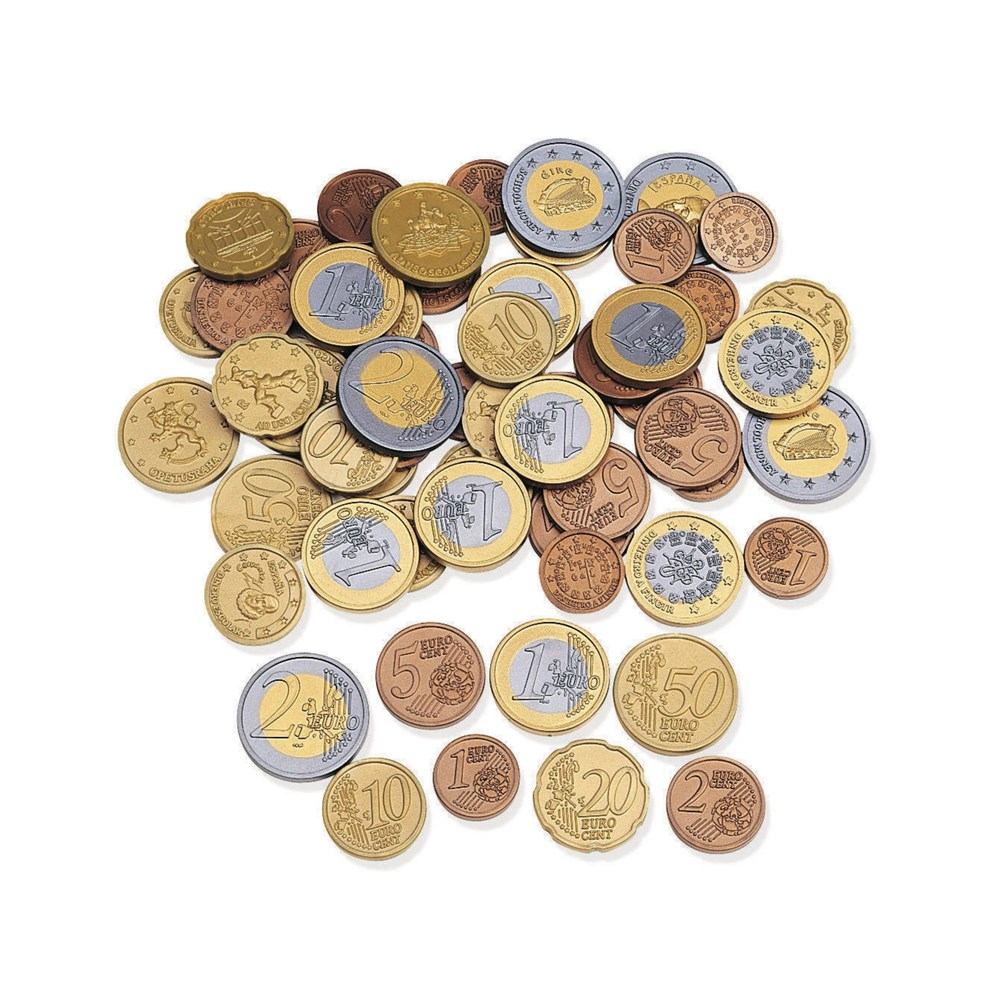euro_1: (296, 487, 431, 616), (406, 448, 539, 577), (488, 612, 621, 733), (493, 368, 612, 489), (593, 281, 710, 392), (298, 240, 402, 352)
euro_2: (233, 646, 372, 791), (338, 329, 466, 470)
